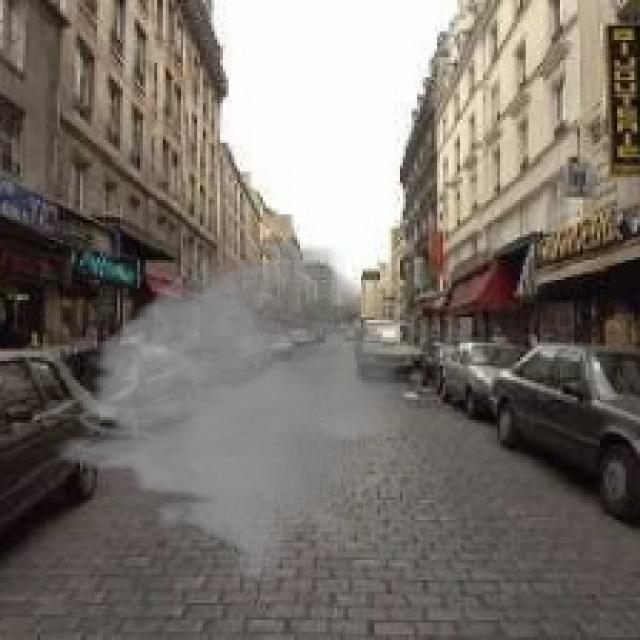smoke: (40, 237, 451, 583)
